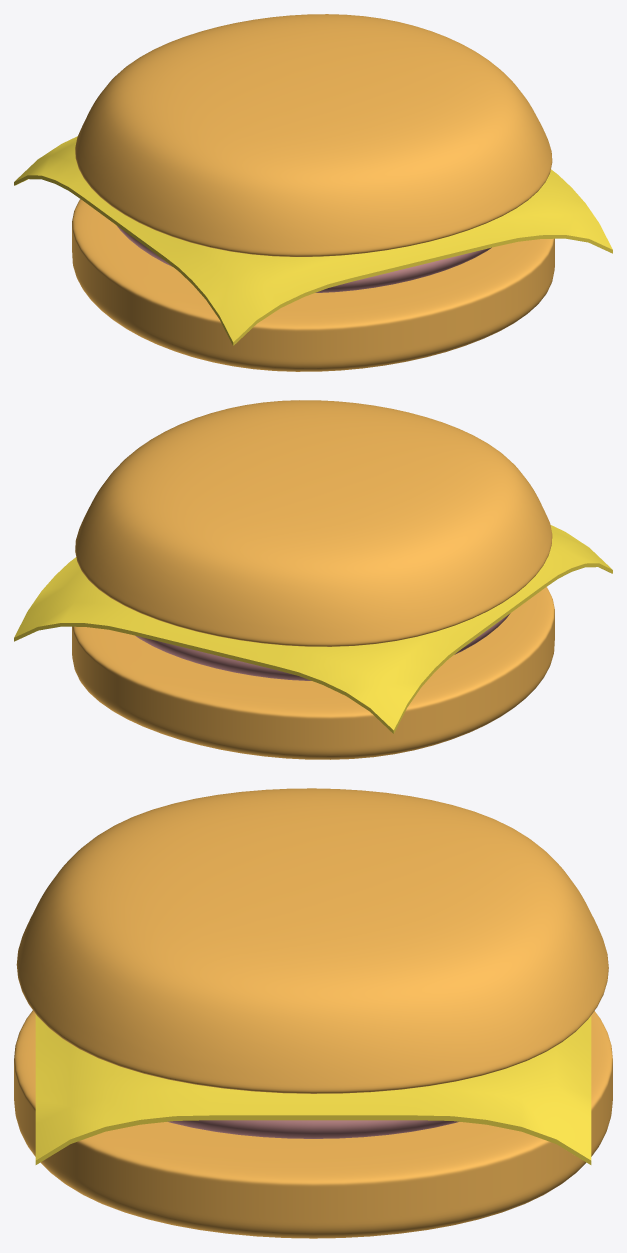
Rendered from burger.glb.
3 views of the same model, one above another, from view 1: azimuth 30°, elevation 25°; view 2: azimuth 150°, elevation 25°; view 3: azimuth 270°, elevation 25° (orthographic). The views are drawn at different scales.
Visible parts, largest first — view 1: Cube.002, Cube, Plane, Cube.001; view 2: Cube.002, Cube, Plane, Cube.001; view 3: Cube.002, Cube, Plane, Cube.001.
Part boxes in pixels (x1=…): Cube.002: x1=75, y1=14, x2=552, y2=256; Cube: x1=72, y1=199, x2=554, y2=371; Plane: x1=14, y1=136, x2=612, y2=345; Cube.001: x1=117, y1=226, x2=491, y2=292; Cube.002: x1=75, y1=400, x2=552, y2=646; Cube: x1=72, y1=587, x2=554, y2=759; Plane: x1=14, y1=525, x2=612, y2=733; Cube.001: x1=135, y1=613, x2=510, y2=680; Cube.002: x1=16, y1=788, x2=608, y2=1093; Cube: x1=14, y1=1010, x2=612, y2=1238; Plane: x1=35, y1=1014, x2=591, y2=1164; Cube.001: x1=167, y1=1120, x2=459, y2=1138.
Size of the model in its own units: 9.09 by 5.11 by 9.09.
